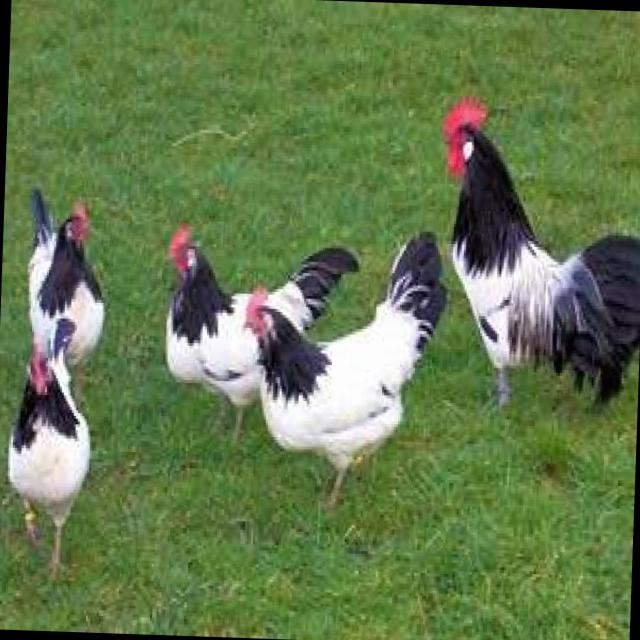chicken: (434, 91, 640, 409), (234, 224, 448, 508), (152, 222, 360, 424), (2, 320, 95, 578), (22, 178, 106, 374)
